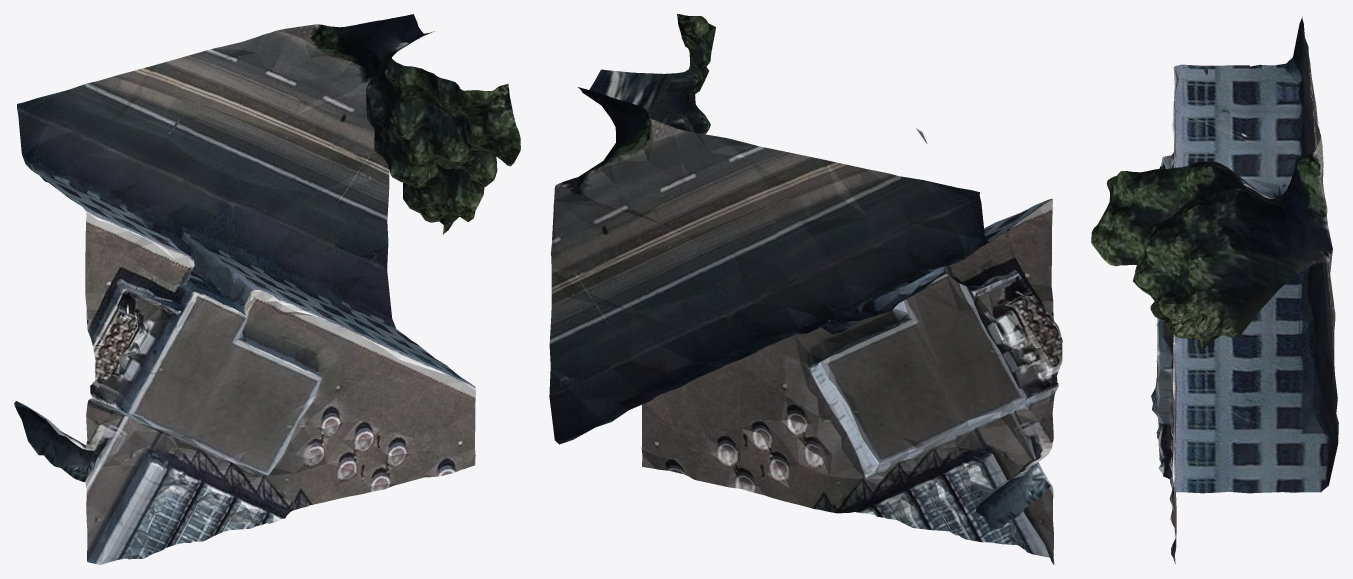
Rendered from Tile_+038_+019_L20_0002230.obj.
The picture shows the model from 3 angles, left to right: view 1: azimuth 30°, elevation 25°; view 2: azimuth 150°, elevation 25°; view 3: azimuth 270°, elevation 25°; orthographic projection. The views are drawn at different scales.
Size of the model in its own units: 31.5 by 31.38 by 18.77.
Materials: 1 (1 with a texture image).
